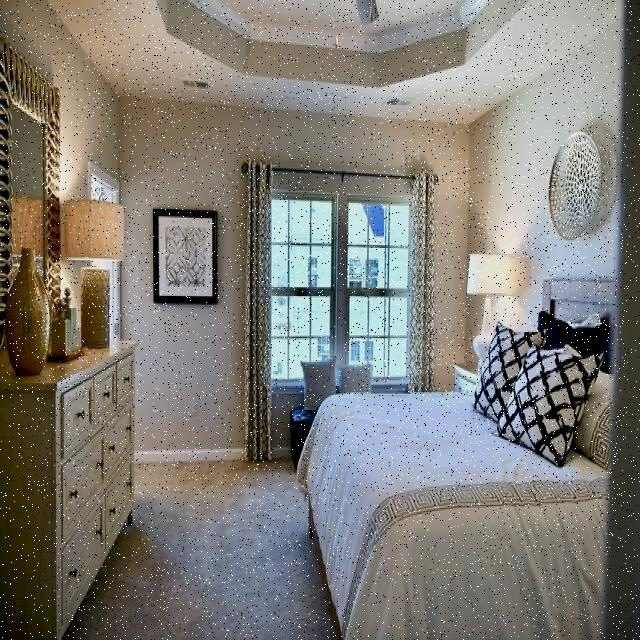bed: (312, 295, 638, 622)
